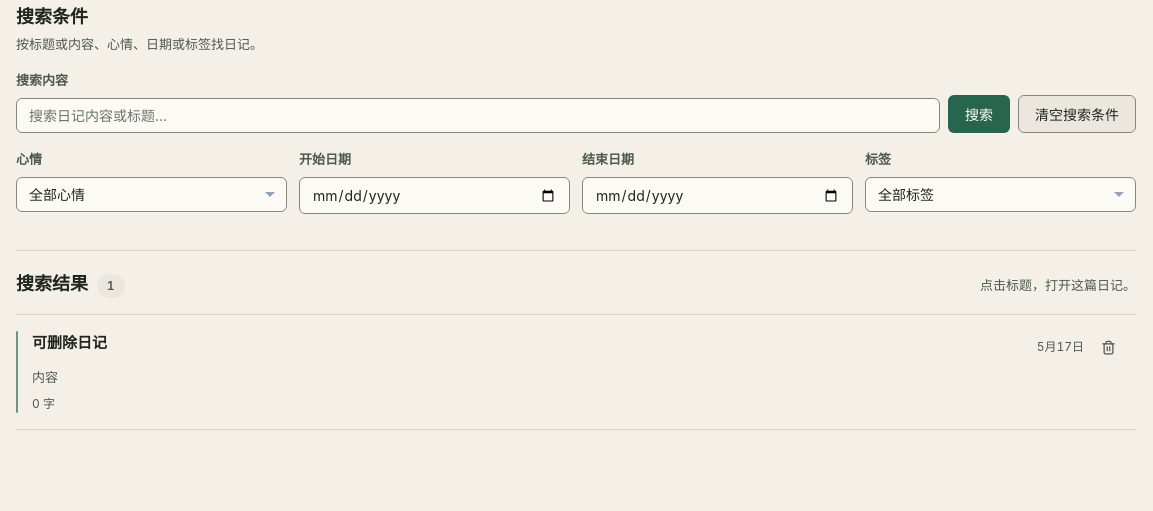
Test: SearchPanel diary results › deletes a diary result after confirmation without selecting it
Click the button named "删除日记 可删除日记": [1108, 347] box [1092,331,1124,363]
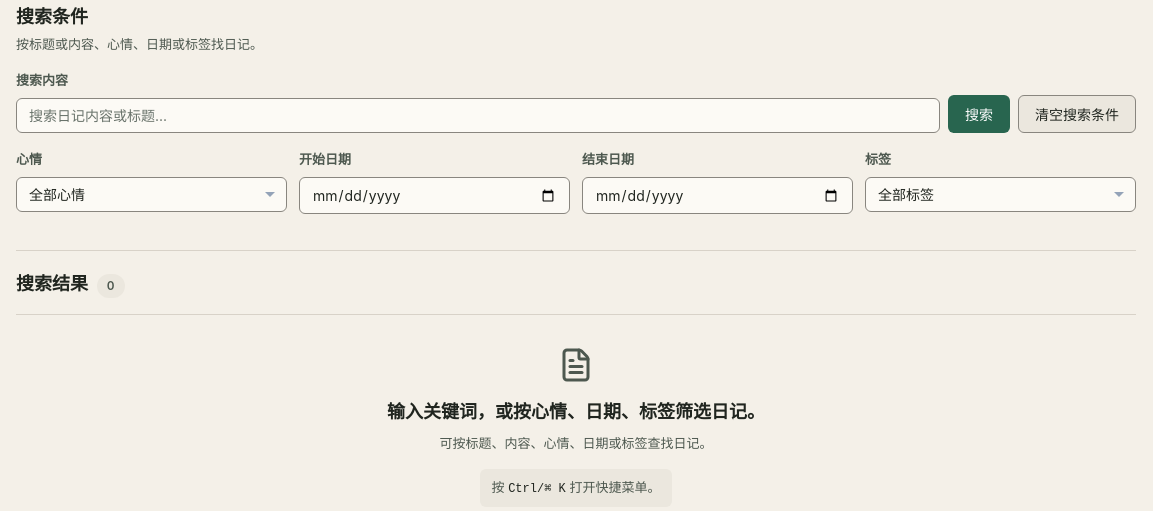
Expected: the list item with test id "search-result-2" is gone
